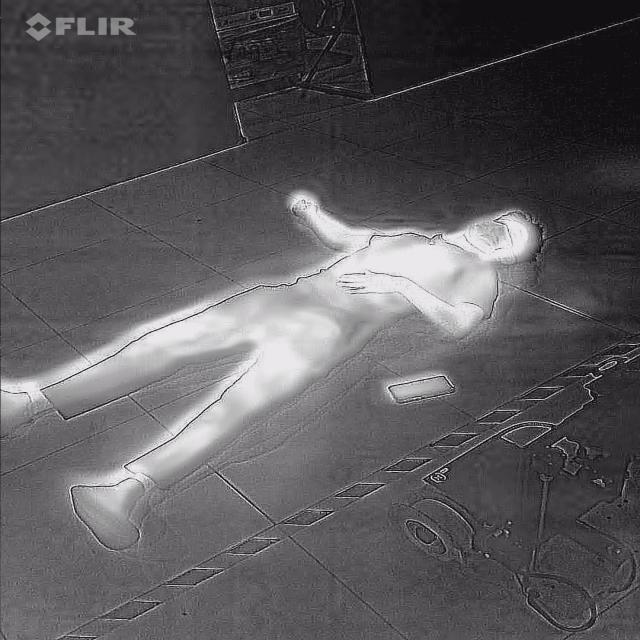Victim: (1, 188, 553, 547)
